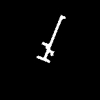double_crochet: (37, 15, 64, 61)
